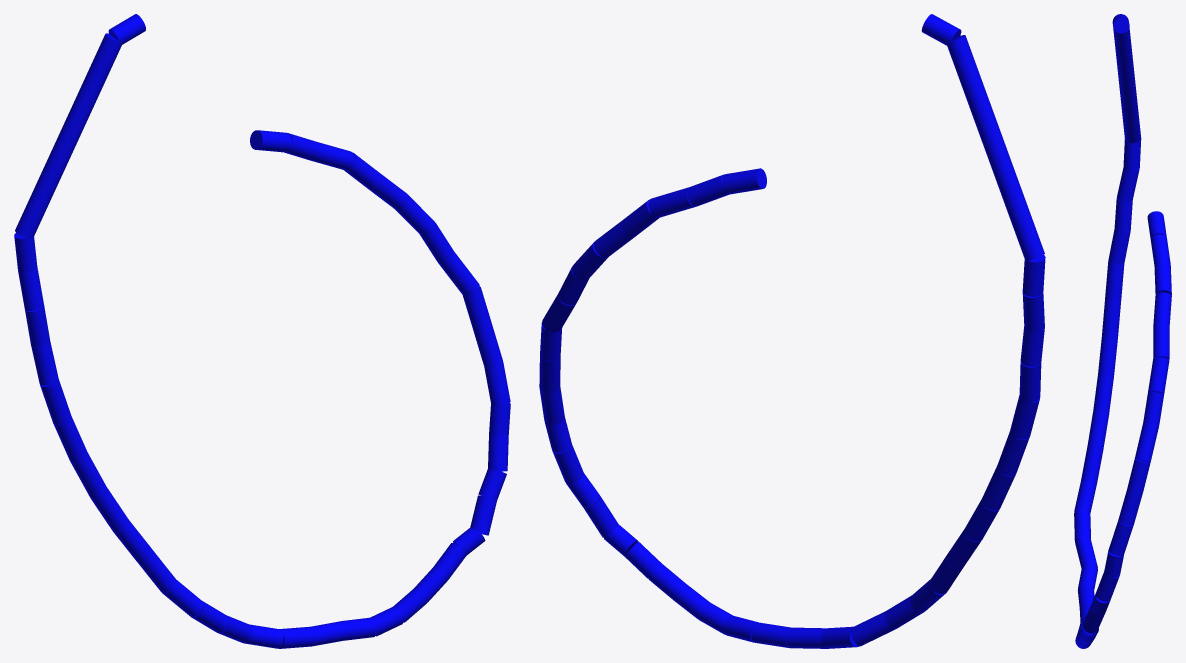
The picture shows the model from 3 angles, left to right: view 1: azimuth 30°, elevation 25°; view 2: azimuth 150°, elevation 25°; view 3: azimuth 270°, elevation 25°; orthographic projection. The views are drawn at different scales.
Parts seen in each view (by area): view 1: Cylinder(Clone) (×23); view 2: Cylinder(Clone) (×23); view 3: Cylinder(Clone) (×32).
Boxes of the visible parts, x1=… form: Cylinder(Clone) (×23): x1=14, y1=33, x2=510, y2=616; Cylinder(Clone) (×23): x1=539, y1=14, x2=1045, y2=648; Cylinder(Clone) (×32): x1=1074, y1=14, x2=1171, y2=633.
Bounding box in the file's own units: 0.2812 × 0.3649 × 0.0598.
